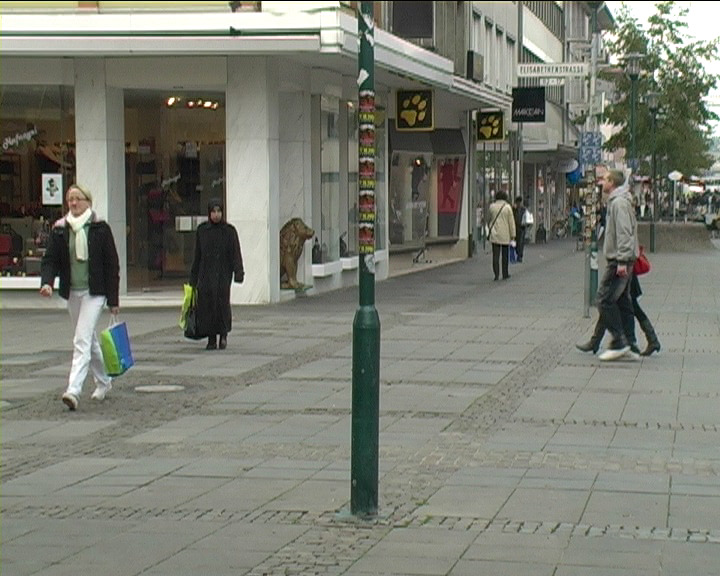undeflect: (52, 185, 113, 243)
